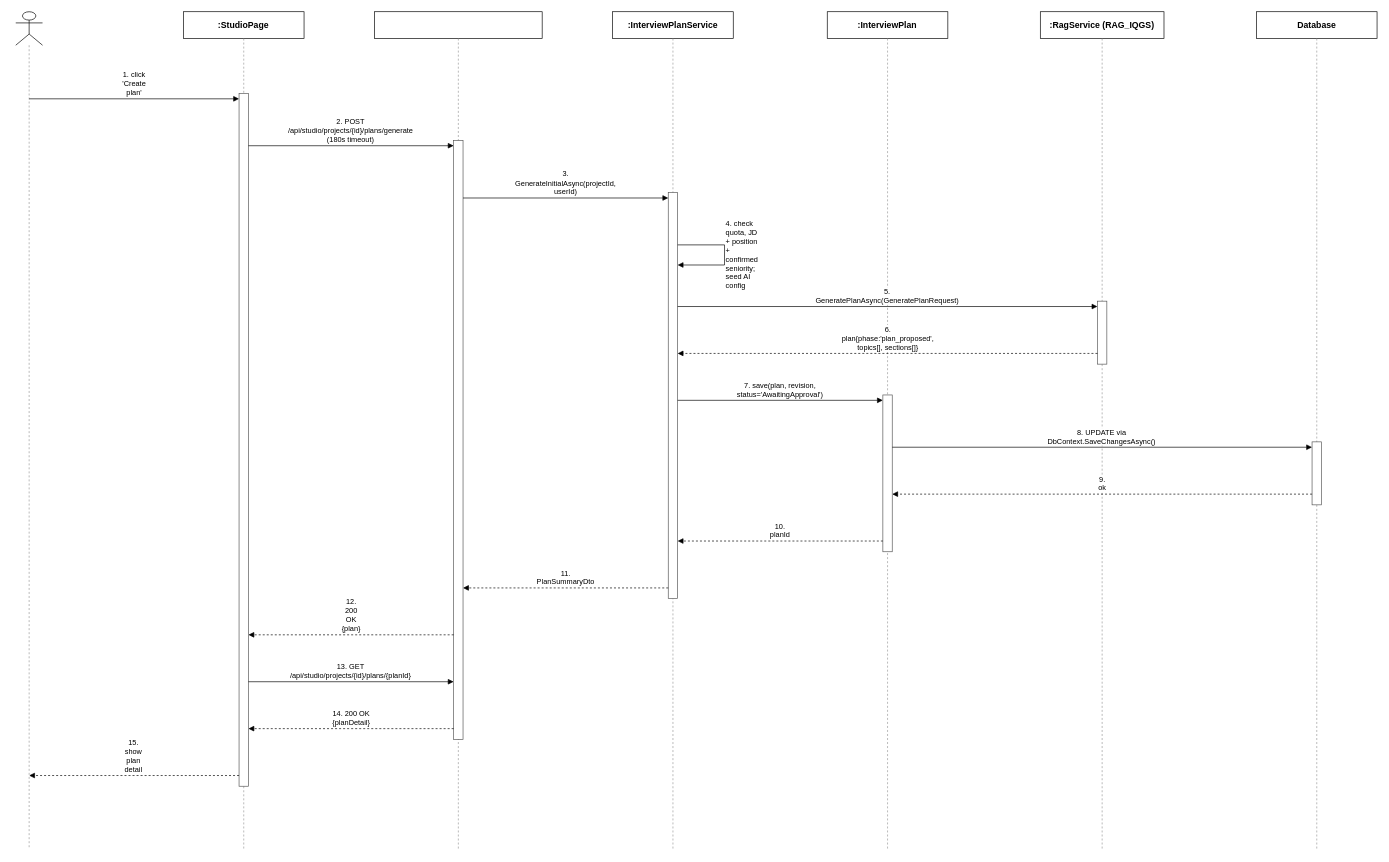
Some shapes in this 1389 by 862 pixel diagram are drawn without their labels. The centre of each missing label's shape, as x and y in pixels:
:StudioInterviewPlansController: the point at 458,25
HR Manager: the point at 29,28
